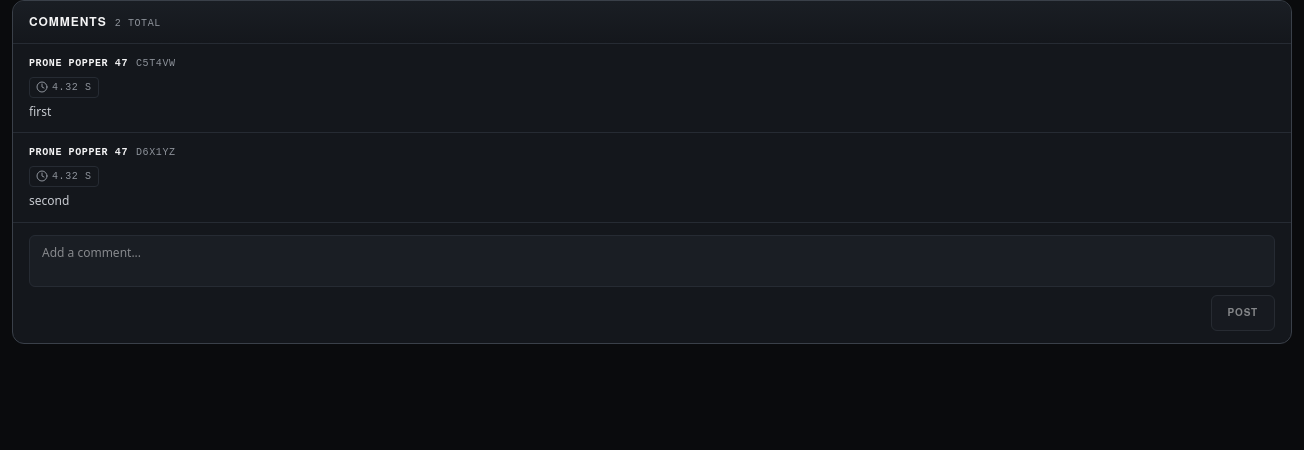
it: CommentPanel › appends a new comment, matching the server's oldest-first order
expect the text "first" is shown: met, box [29, 103, 51, 120]
Step 1. Type "third" into the text box labelled "Add a comment..." → (652, 261), box [29, 235, 1275, 287]
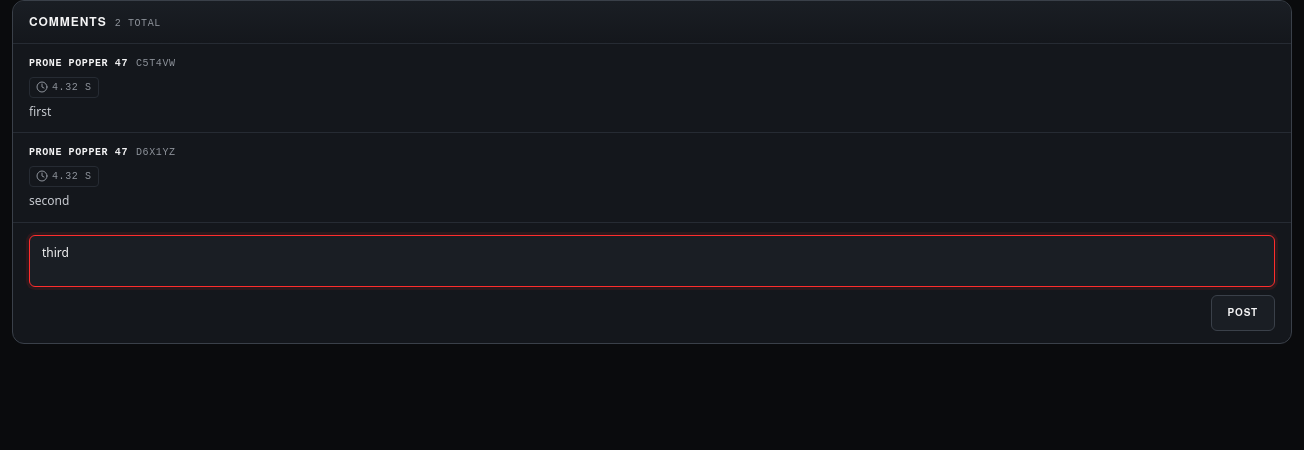
Step 2. Click the button "Post" → (1243, 313), box [1211, 295, 1275, 331]
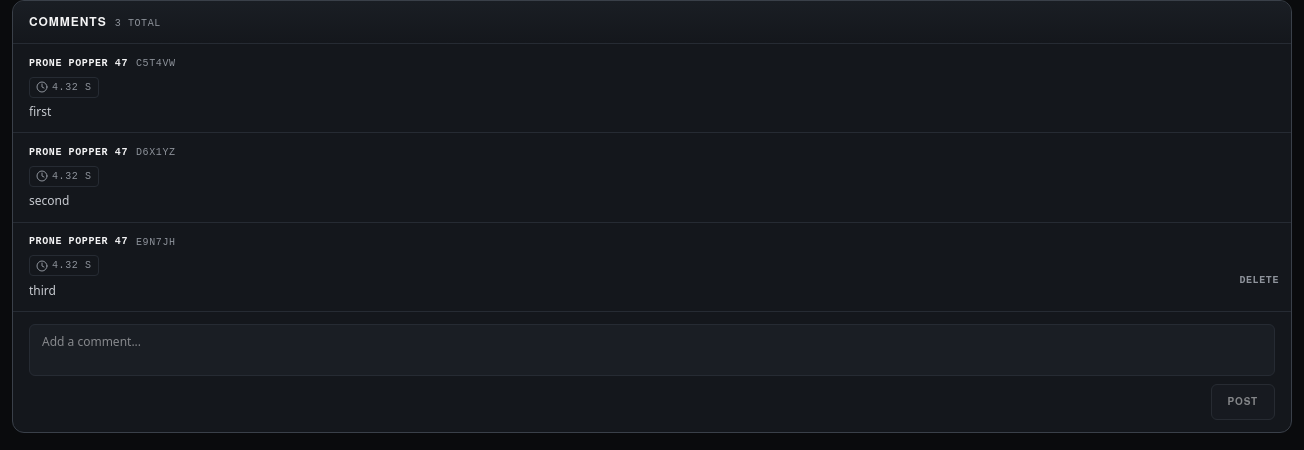
expect the text "third" is shown: met, box [29, 282, 56, 299]
